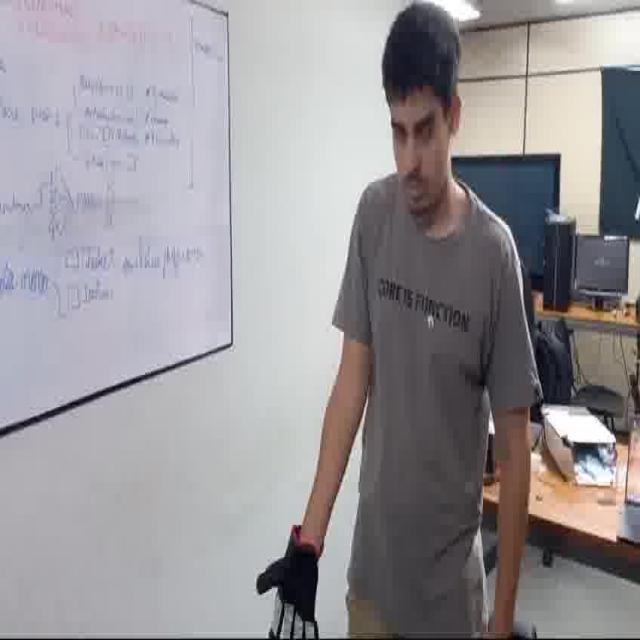Gloves: (256, 522, 321, 640)
